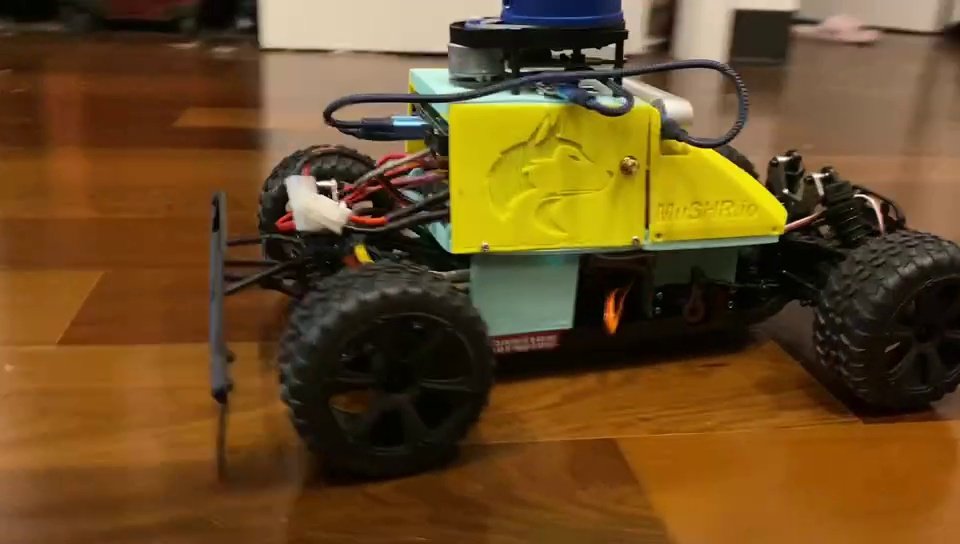mushr_car: (179, 1, 960, 486)
